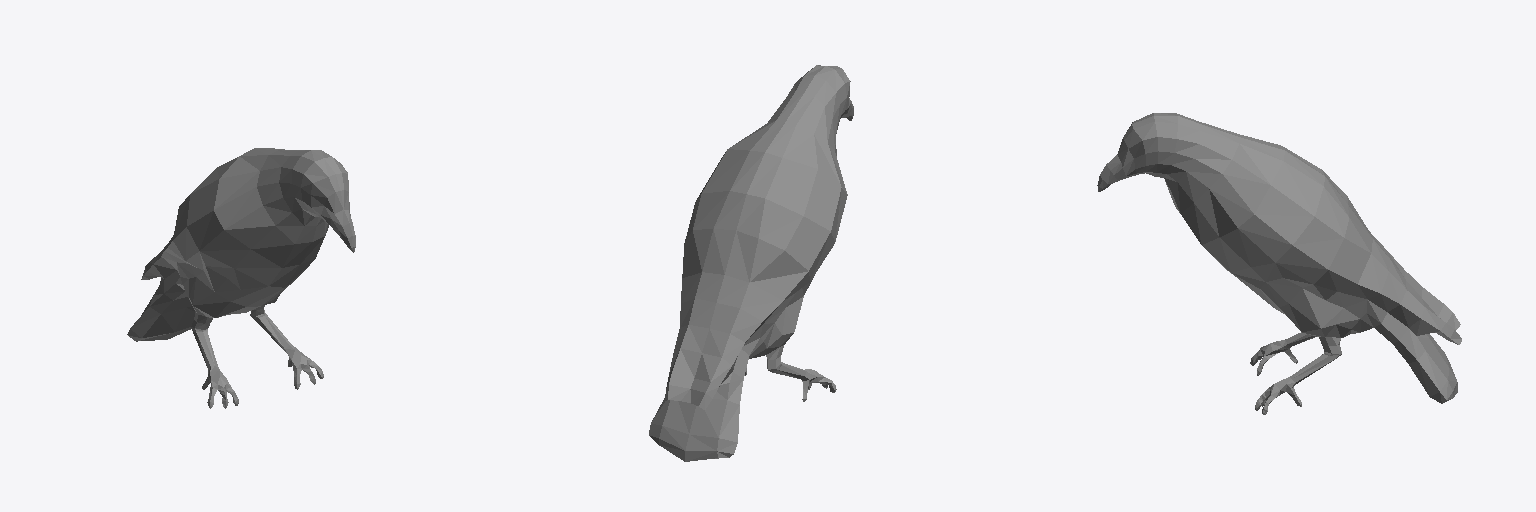
Rendered from Crow-1.obj.
3 views of the same model, side by side, from view 1: azimuth 30°, elevation 25°; view 2: azimuth 150°, elevation 25°; view 3: azimuth 270°, elevation 25° (orthographic).
Parts seen in each view (by area): view 1: Crow_1; view 2: Crow_1; view 3: Crow_1.
Part boxes in pixels (bbox=[...]): Crow_1: bbox=[127, 148, 355, 408]; Crow_1: bbox=[649, 65, 853, 461]; Crow_1: bbox=[1097, 113, 1461, 414].
Bounding box in the file's own units: 0.0949 × 0.1955 × 0.2266.